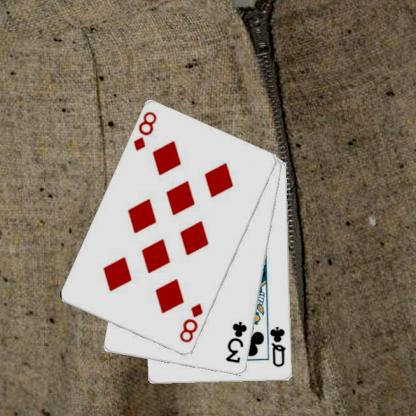3C: (223, 319, 249, 365)
8D: (177, 300, 205, 345), (130, 108, 158, 152)
QC: (268, 324, 287, 368)
